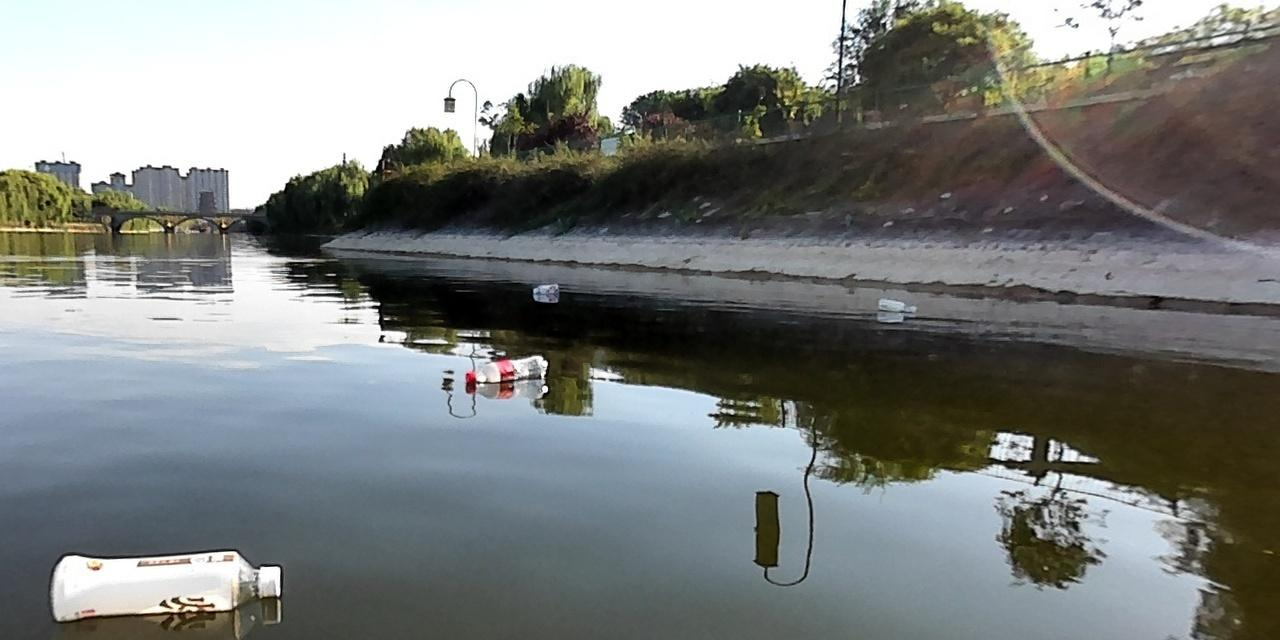bottle: (46, 547, 286, 623), (461, 350, 549, 387), (874, 293, 919, 312), (530, 280, 561, 298)
